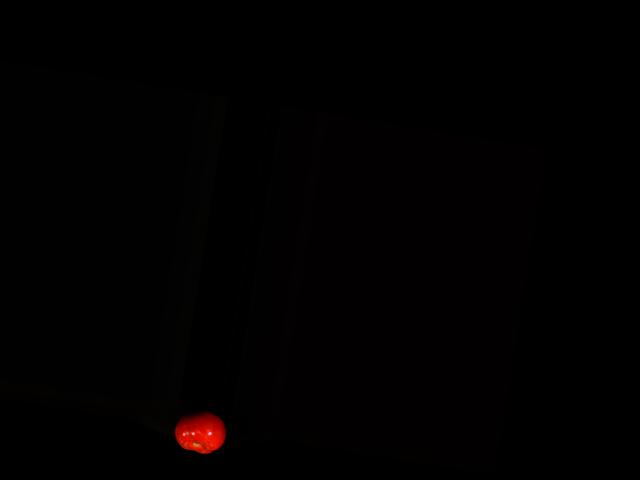tomato: (172, 406, 230, 456)
